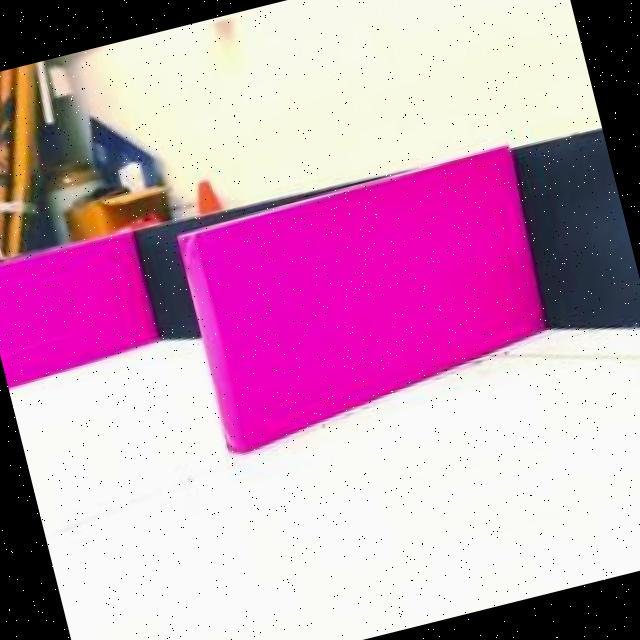xparking: (172, 151, 552, 421), (0, 229, 154, 374)
